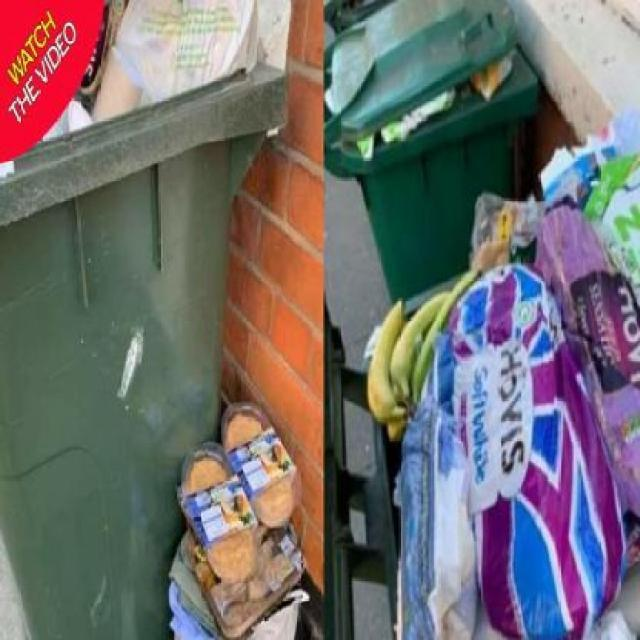garbage: (383, 245, 610, 615)
